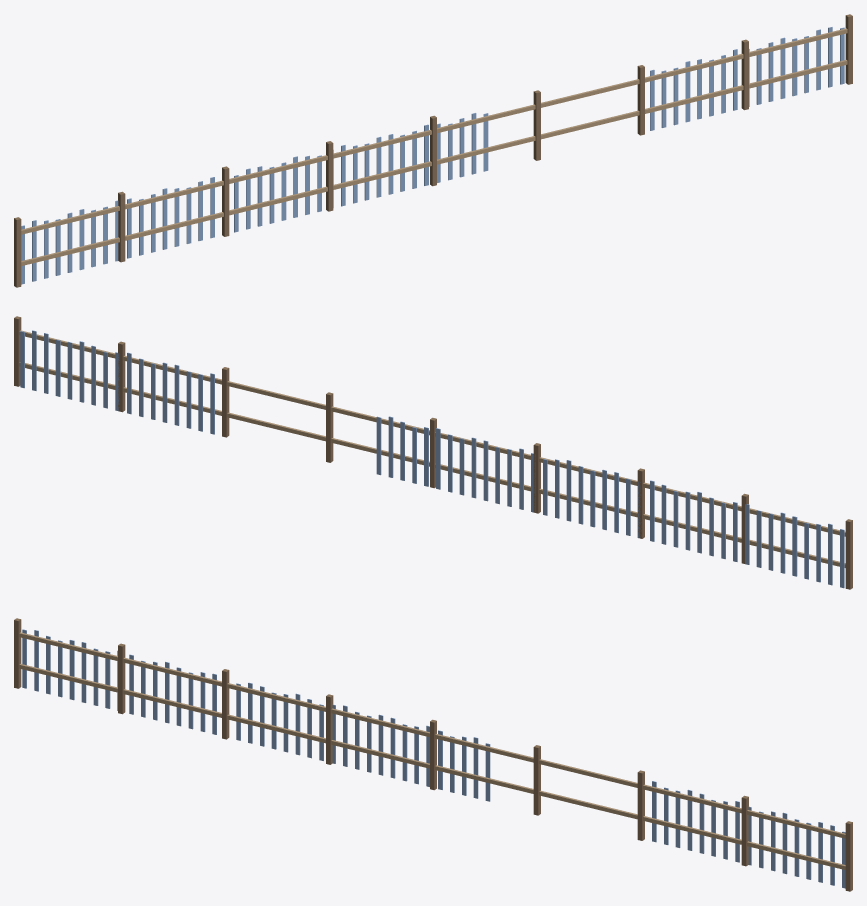
The model's file is fence_run.glb.
3 renders of one model, top to bottom at view 1: azimuth 30°, elevation 25°; view 2: azimuth 150°, elevation 25°; view 3: azimuth 330°, elevation 25°, orthographic.
Visible parts, largest first — view 1: fence_run; view 2: fence_run; view 3: fence_run.
Boxes of the visible parts, x1=… form: fence_run: x1=14, y1=14, x2=852, y2=287; fence_run: x1=14, y1=316, x2=852, y2=589; fence_run: x1=14, y1=618, x2=852, y2=891.
Size of what is drawn, in the model's own units: 18.1 by 1.4 by 0.1.
